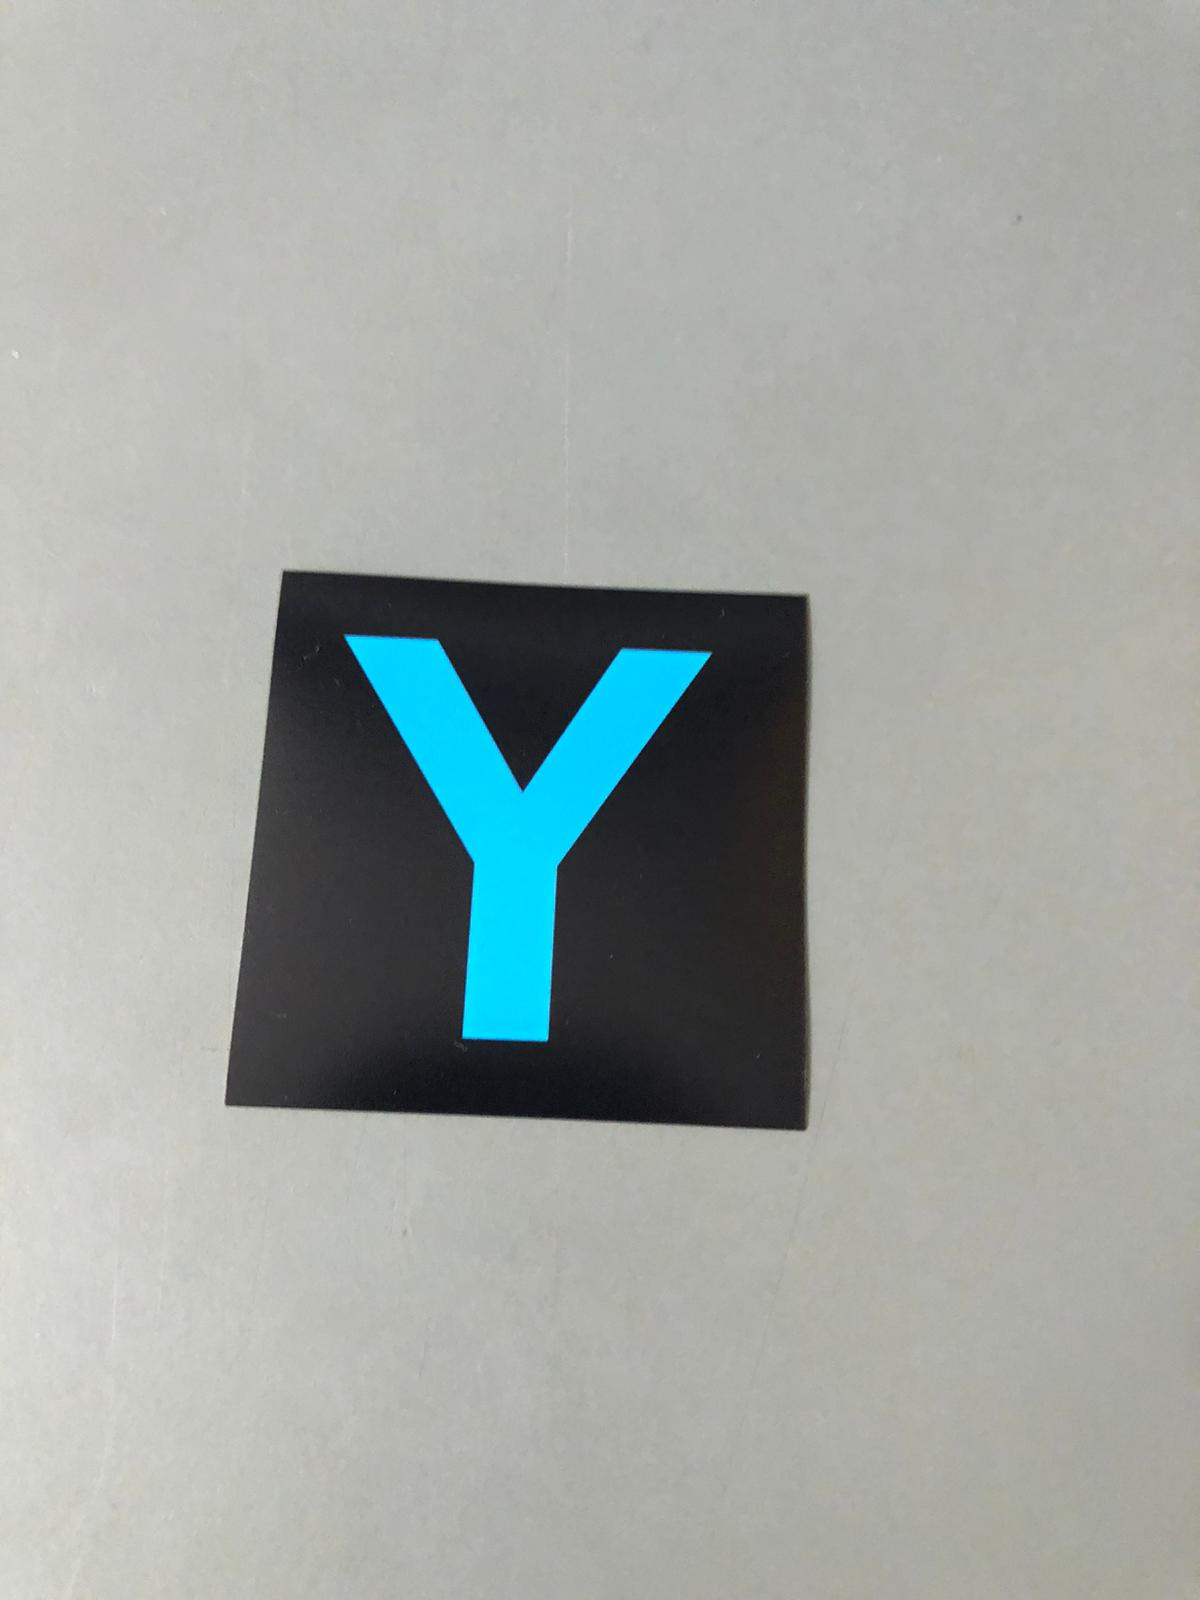Y: (276, 581, 779, 1112)
